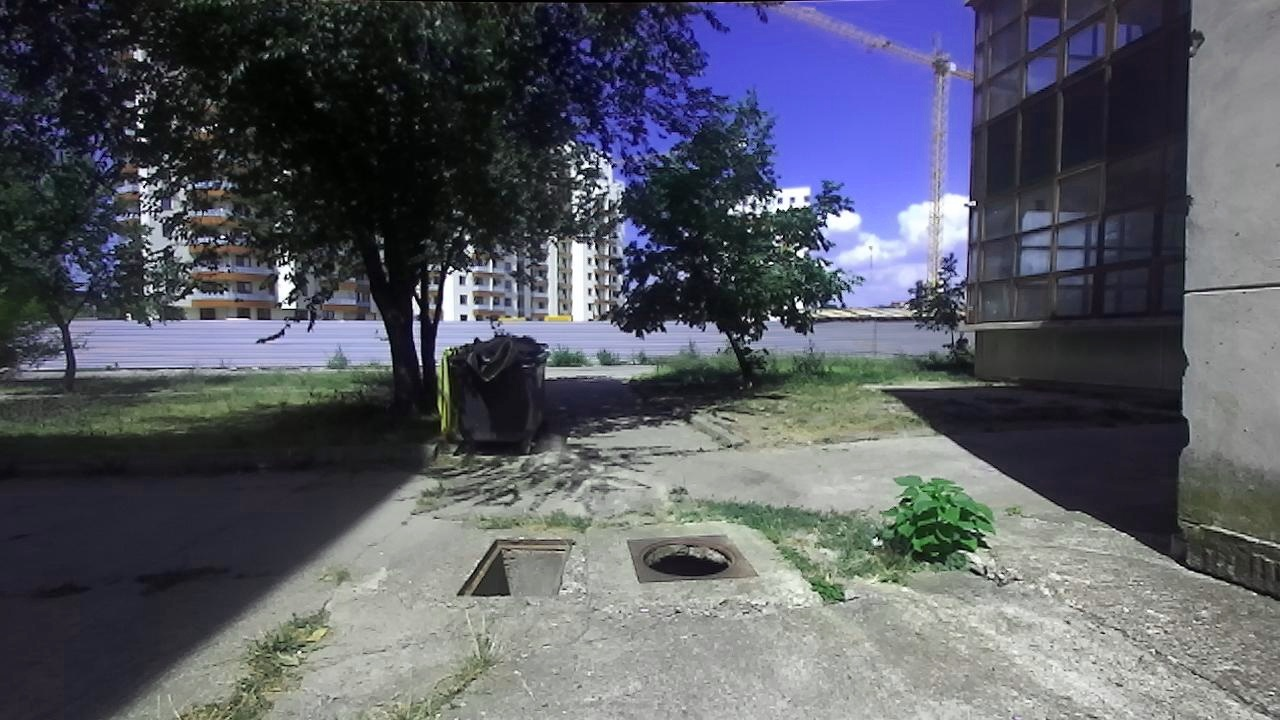drain: (453, 536, 574, 602), (640, 537, 740, 577)
